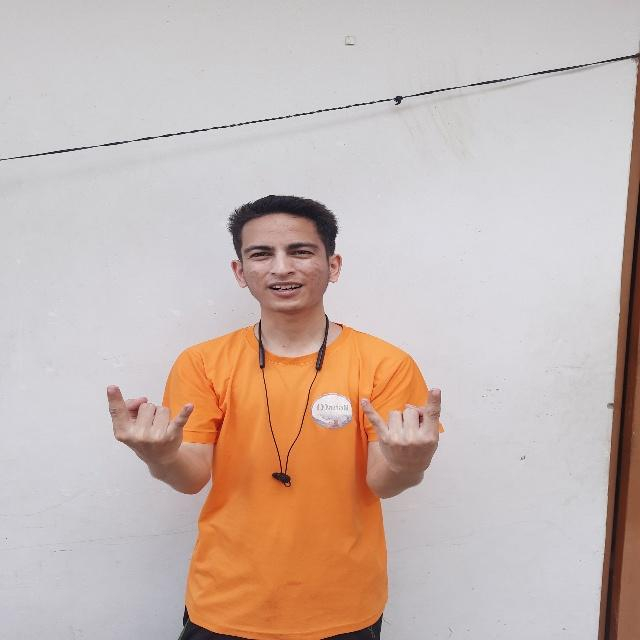Corna: (92, 370, 198, 466), (356, 382, 454, 471)
